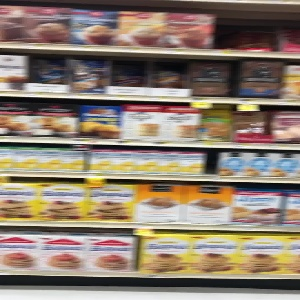void: (216, 2, 280, 52), (112, 55, 150, 93)
